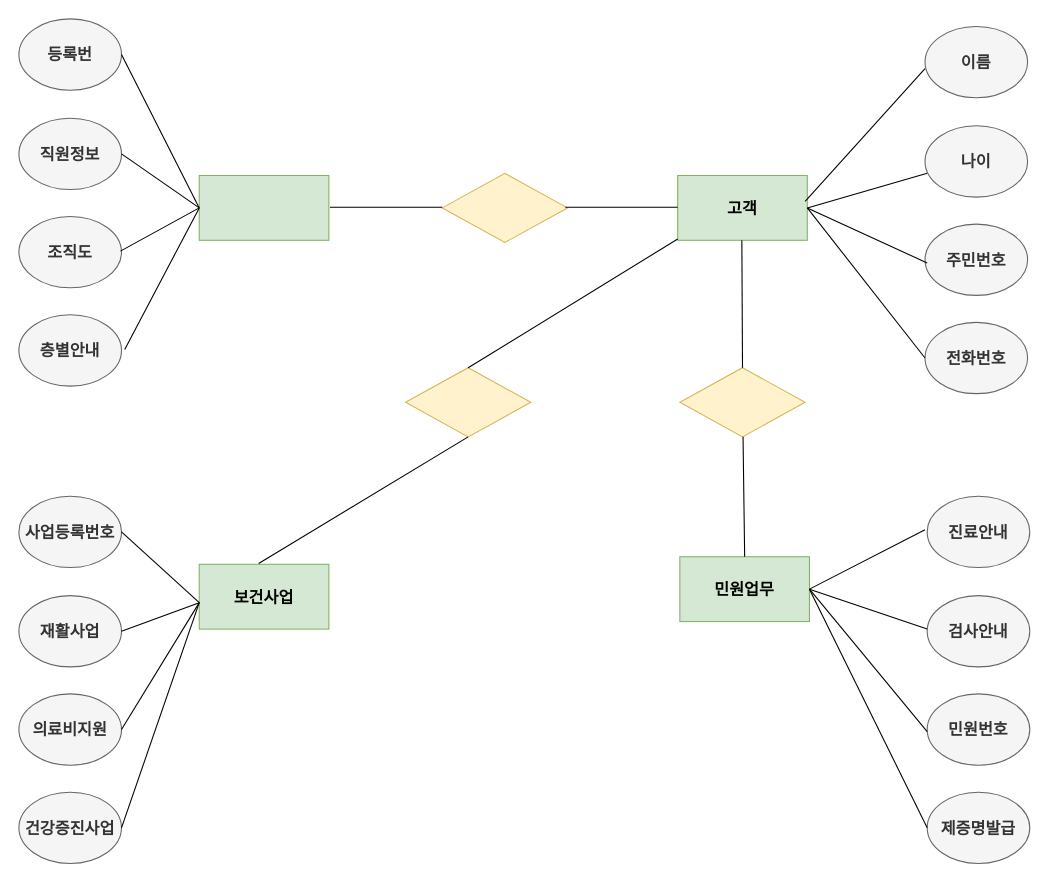
Image size: 1049x882. Some labels were removed from this diagram. Here are the shapes that lost their labels. From the top down, the centre of each, then its label:
pixel 263 207: 보건소 소개
pixel 504 207: 검색
pixel 467 402: 이용
pixel 742 402: 민원
